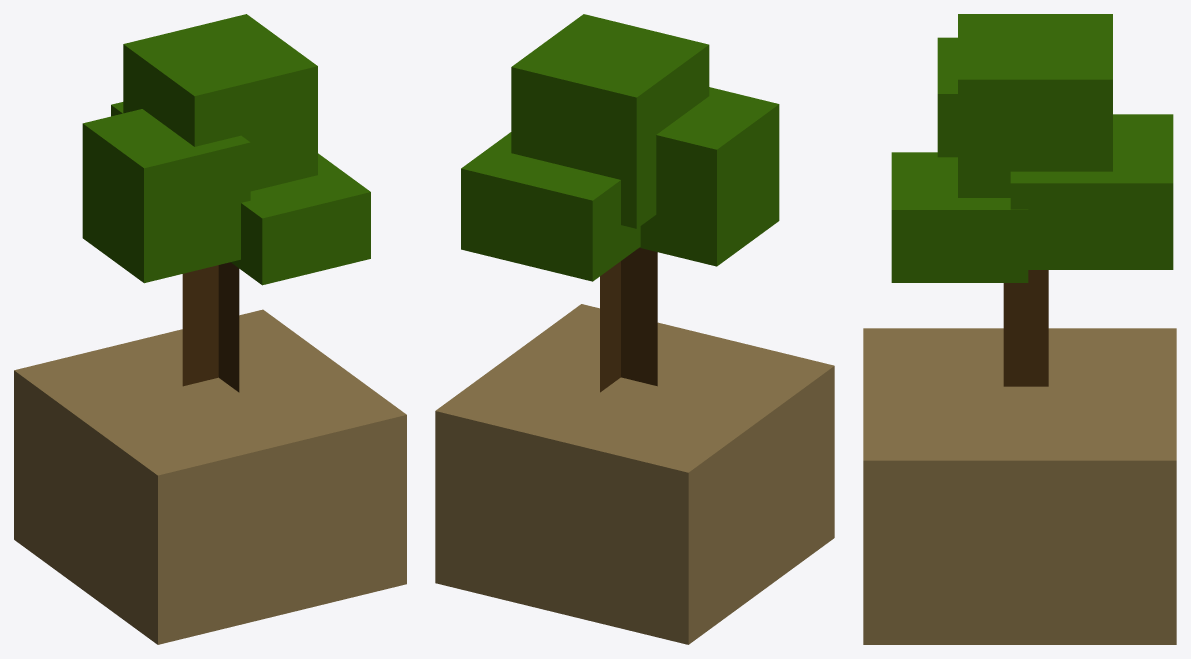
The model's file is woods1.dae.
3 renders of one model, left to right at view 1: azimuth 30°, elevation 25°; view 2: azimuth 150°, elevation 25°; view 3: azimuth 270°, elevation 25°, orthographic. The views are drawn at different scales.
Parts seen in each view (by area): view 1: Base, Cube_003, Cube_001, Cube_004, Cube; view 2: Base, Cube_001, Cube_003, Cube_002, Cube; view 3: Base, Cube_001, Cube_002, Cube_004, Cube, Cube_003.
Boxes of the visible parts, box(x1,y1,x2,y2) form: Base: box(14, 309, 406, 644); Cube_003: box(82, 109, 250, 283); Cube_001: box(123, 14, 317, 191); Cube_004: box(231, 153, 370, 285); Cube: box(182, 262, 239, 392); Base: box(435, 304, 834, 644); Cube_001: box(511, 14, 709, 228); Cube_003: box(639, 87, 779, 266); Cube_002: box(461, 132, 640, 281); Cube: box(600, 247, 657, 392); Base: box(863, 328, 1176, 644); Cube_001: box(958, 14, 1112, 197); Cube_002: box(1010, 114, 1173, 269); Cube_004: box(891, 152, 1028, 282); Cube: box(1003, 270, 1048, 386); Cube_003: box(937, 37, 957, 157).
Bounding box in the file's own units: 1 × 1 × 1.91.
